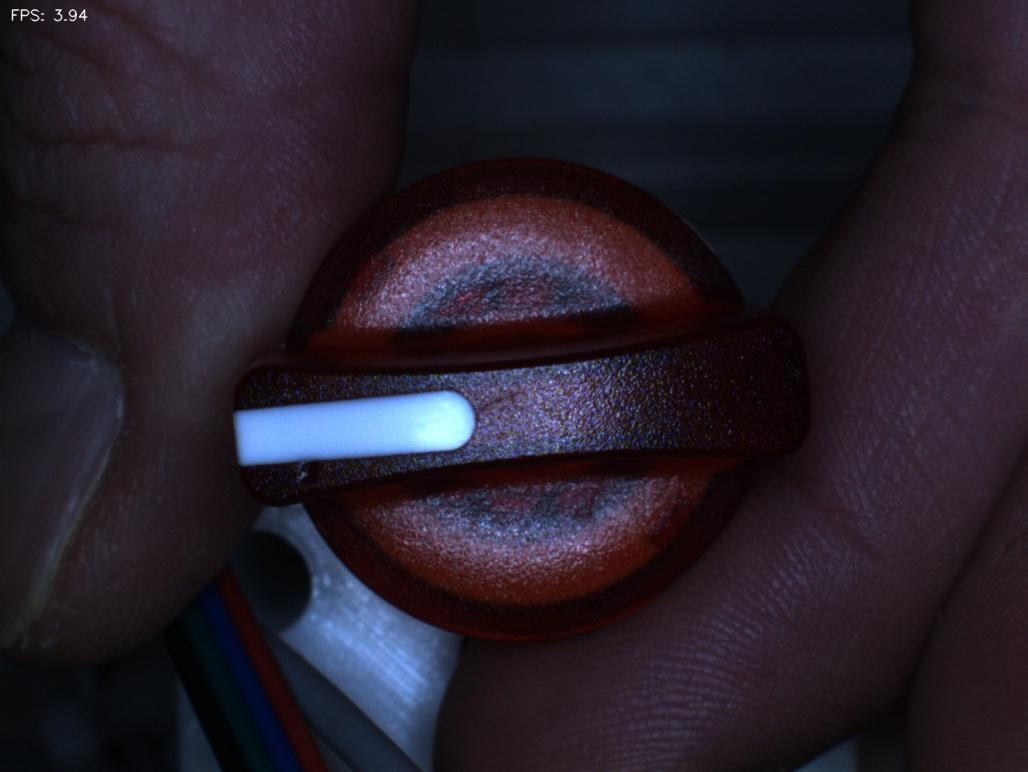Choc: (263, 437, 366, 517)
